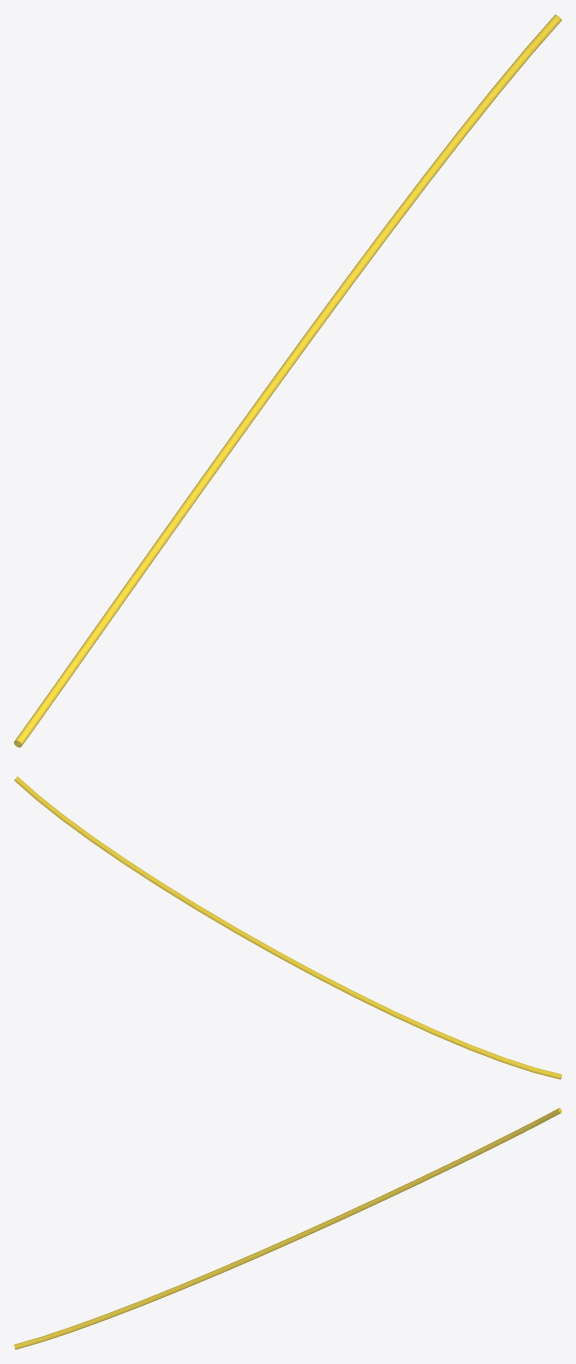
Rendered from Event_40932208_track_14.fbx.
The picture shows the model from 3 angles, top to bottom: view 1: azimuth 30°, elevation 25°; view 2: azimuth 150°, elevation 25°; view 3: azimuth 330°, elevation 25°; orthographic projection. The views are drawn at different scales.
Parts seen in each view (by area): view 1: Model; view 2: Model; view 3: Model.
Part boxes in pixels (x1,y1,x2,y2): Model: (14,14,561,747); Model: (14,776,561,1079); Model: (14,1108,561,1349).
Bounding box in the file's own units: 3.68 × 2.16 × 1.54.
